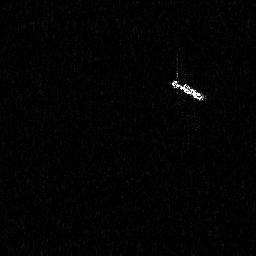ship: (169, 73, 209, 103)
